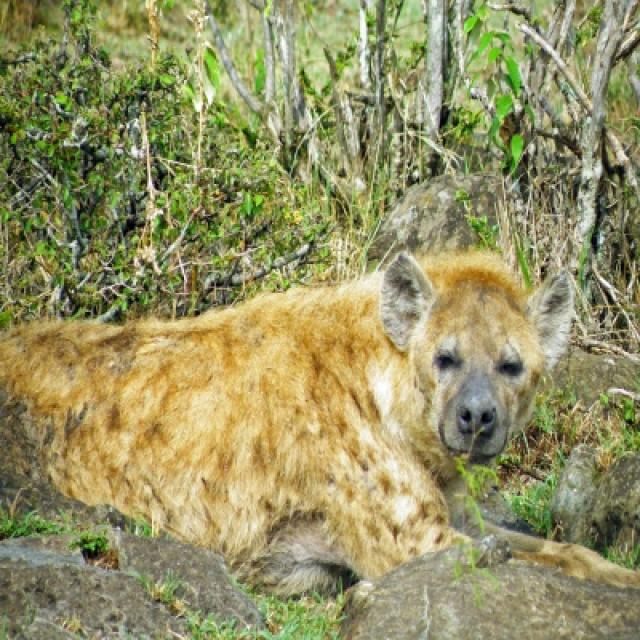hyena: (0, 253, 574, 600)
